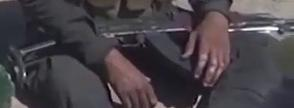gun: (0, 1, 293, 108)
